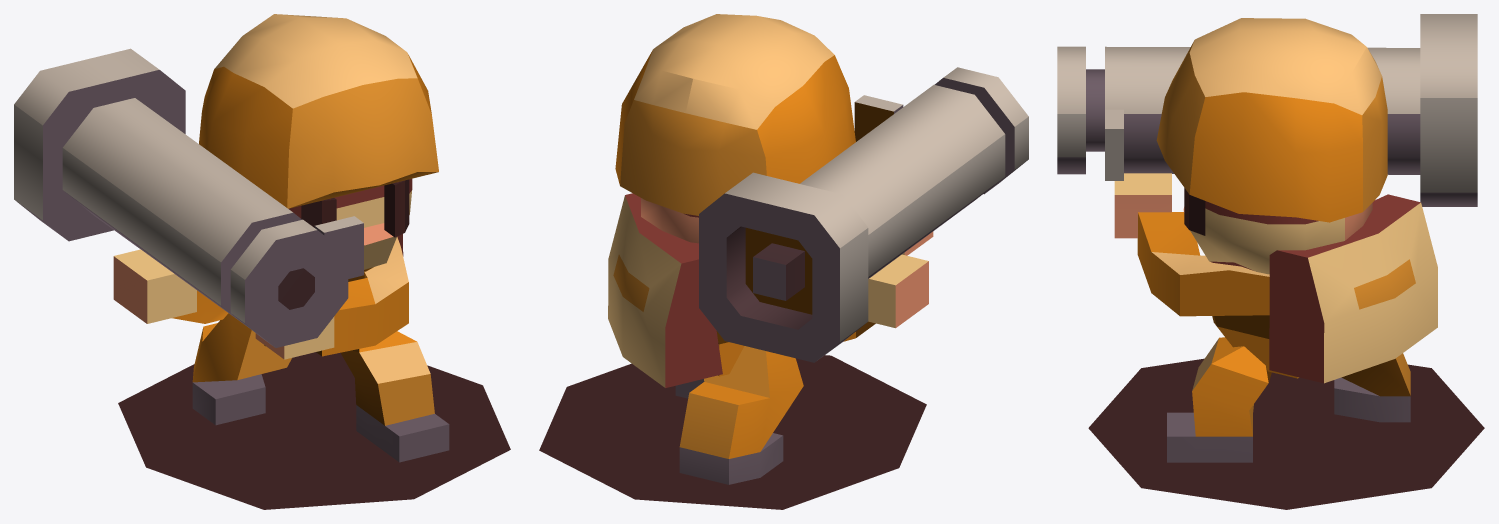
File: MechMesh.AmberBlaze.glb
3 views of the same model, side by side, from view 1: azimuth 30°, elevation 25°; view 2: azimuth 150°, elevation 25°; view 3: azimuth 270°, elevation 25° (orthographic).
Parts seen in each view (by area): view 1: MechMesh.AmberBlaze; view 2: MechMesh.AmberBlaze; view 3: MechMesh.AmberBlaze.
Boxes of the visible parts, bbox=[...] form: MechMesh.AmberBlaze: bbox=[14, 14, 510, 509]; MechMesh.AmberBlaze: bbox=[539, 14, 1028, 509]; MechMesh.AmberBlaze: bbox=[1057, 14, 1484, 509].
Bounding box in the file's own units: 2.24 × 2.3 × 2.24.
1 material, 1 textured.
